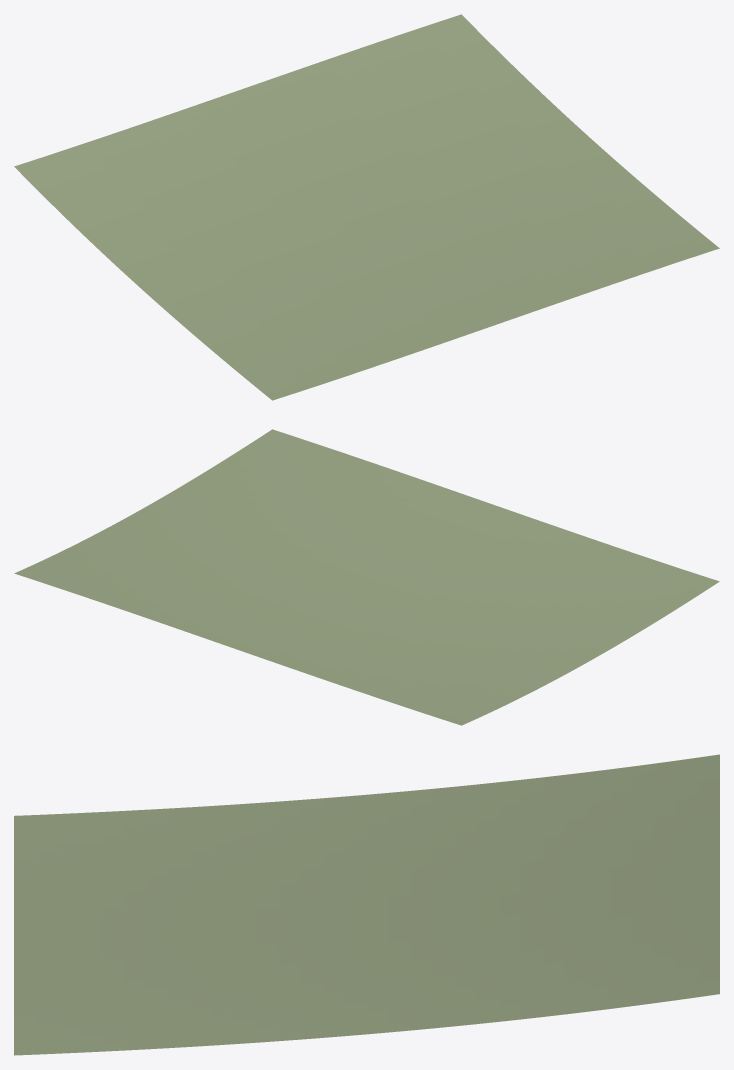
The model's file is valley-5-3.glb.
3 renders of one model, top to bottom at view 1: azimuth 30°, elevation 25°; view 2: azimuth 150°, elevation 25°; view 3: azimuth 270°, elevation 25°, orthographic. The views are drawn at different scales.
Parts seen in each view (by area): view 1: valley-5-3; view 2: valley-5-3; view 3: valley-5-3.
Part boxes in pixels (x1,y1,x2,y2): valley-5-3: (14,14,719,400); valley-5-3: (14,429,719,725); valley-5-3: (14,754,719,1055).
Size of the model in its own units: 256 by 48.06 by 256.
